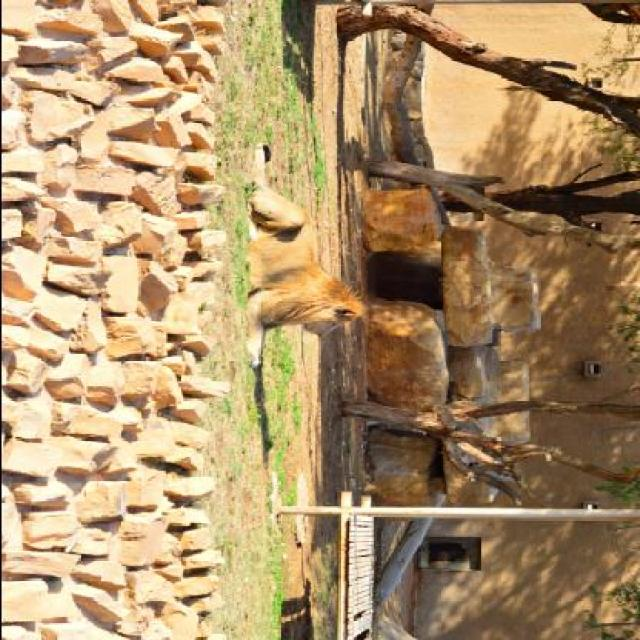Lion: (232, 140, 376, 371)
